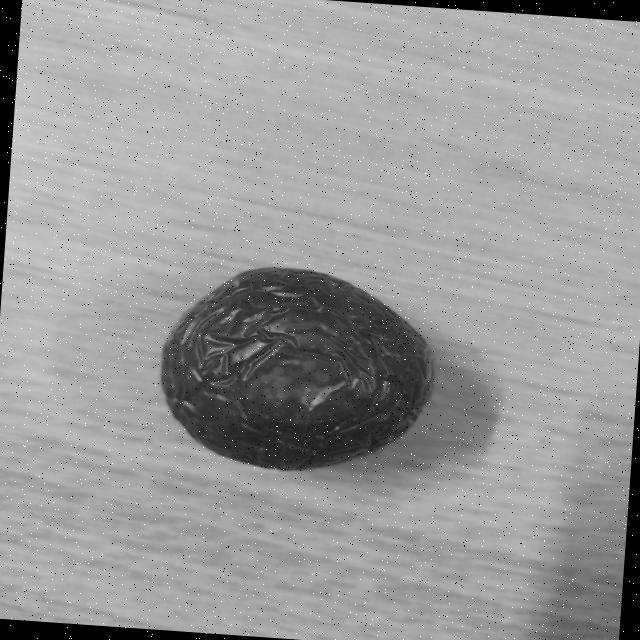overripe: (147, 254, 446, 483)
